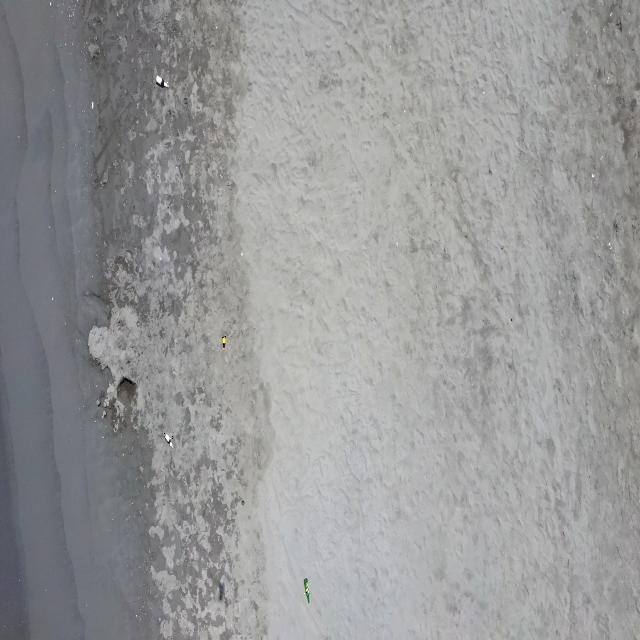glass: (155, 74, 169, 89), (303, 577, 310, 605), (164, 431, 173, 449), (222, 334, 226, 352)
